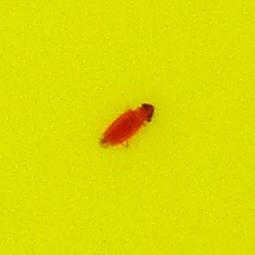Hemiptera: (100, 100, 155, 155)
